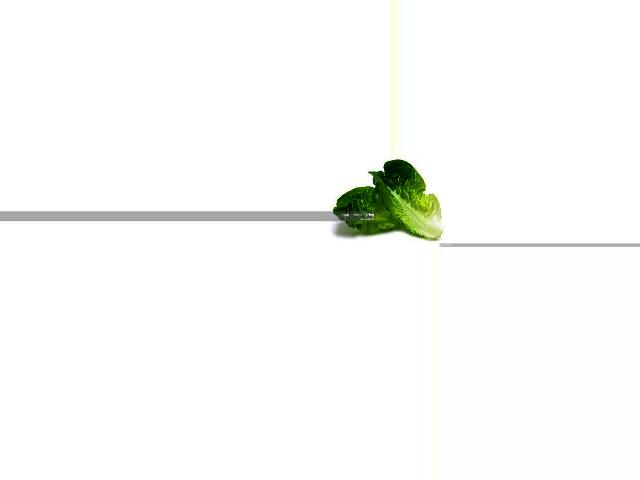lettuce: (330, 159, 445, 235)
